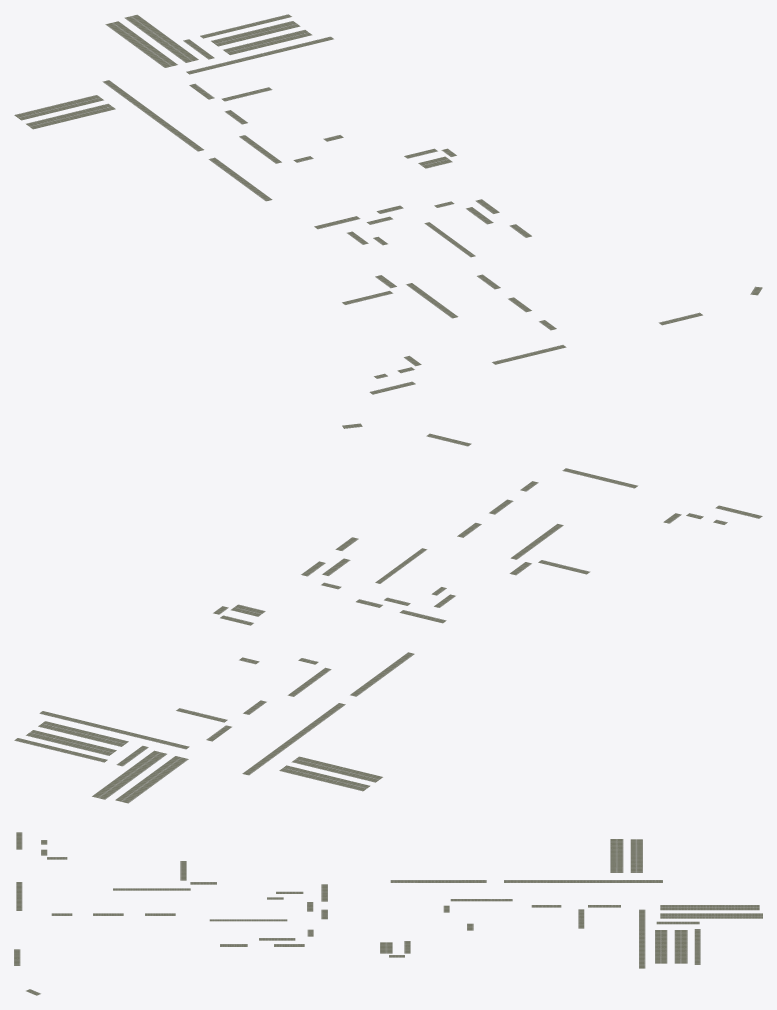
File: 停车位.glb
3 views of the same model, one above another, from view 1: azimuth 30°, elevation 25°; view 2: azimuth 150°, elevation 25°; view 3: azimuth 270°, elevation 25° (orthographic). The views are drawn at different scales.
Parts seen in each view (by area): view 1: 停车位; view 2: 停车位; view 3: 停车位.
Part boxes in pixels (left/top/right/bottom): 停车位: left=14, top=14, right=762, bottom=394; 停车位: left=14, top=423, right=762, bottom=803; 停车位: left=14, top=832, right=762, bottom=995.
Size of the model in its own units: 293 by 1.26e-13 by 568.
Materials: 1 (1 with a texture image).
